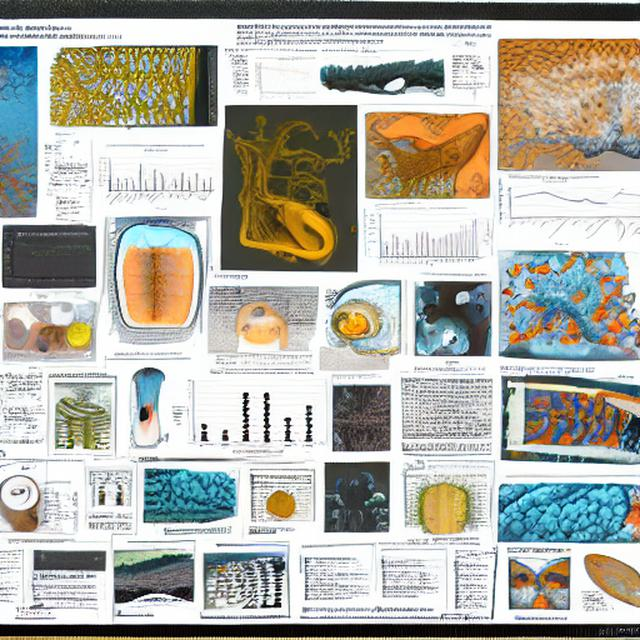Graph: (170, 370, 323, 455), (94, 141, 216, 214), (497, 173, 613, 247), (361, 204, 481, 271), (2, 230, 96, 287), (254, 55, 317, 99)
